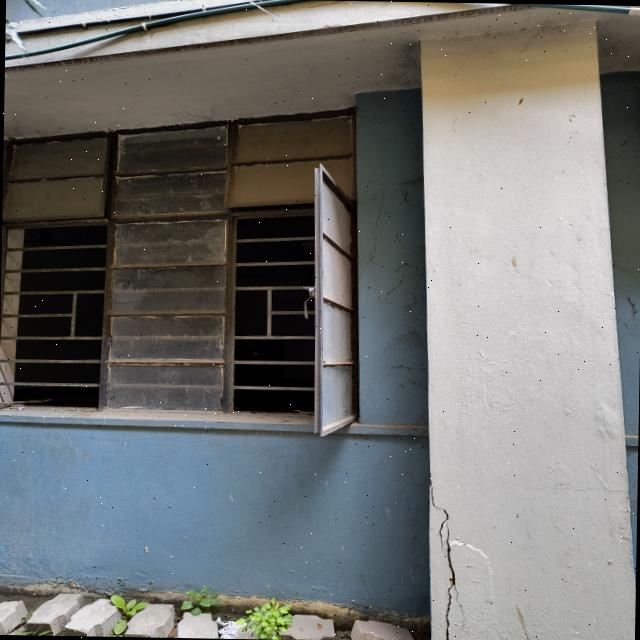Crack: (443, 523, 464, 640), (429, 479, 450, 553)
